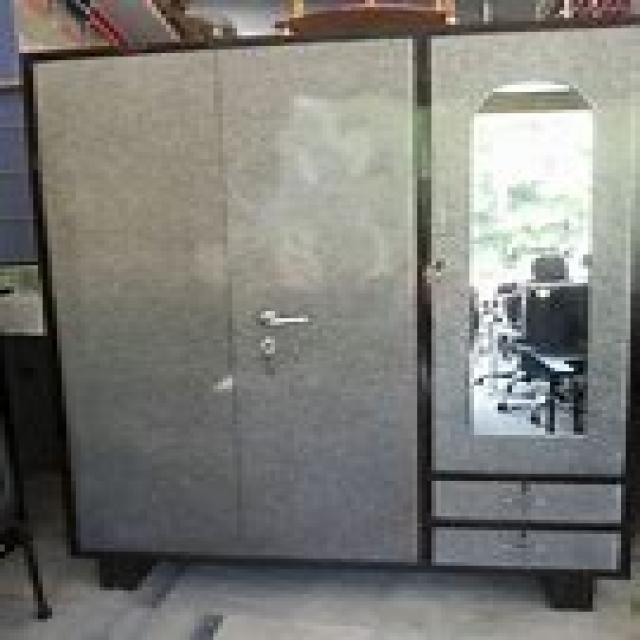dolap: (19, 18, 636, 602)
